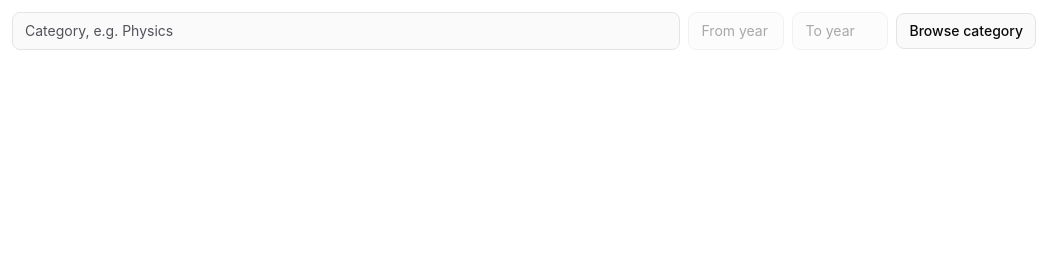
CategoryFilter › shows the curated categories as a real dropdown when the field is focused
Click the field labelled "Category" at coordinates (346, 31), box [12, 12, 680, 50]
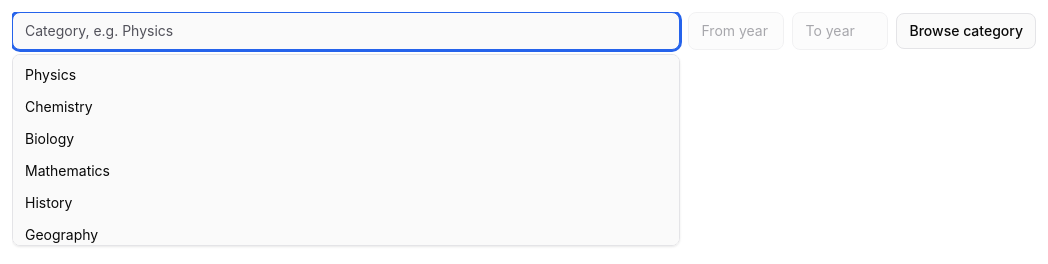
expect the button "Physics" is shown: met, box [13, 59, 680, 91]
expect the button "Chemistry" is shown: met, box [13, 91, 680, 123]
expect the button "Biology" is shown: met, box [13, 123, 680, 155]
